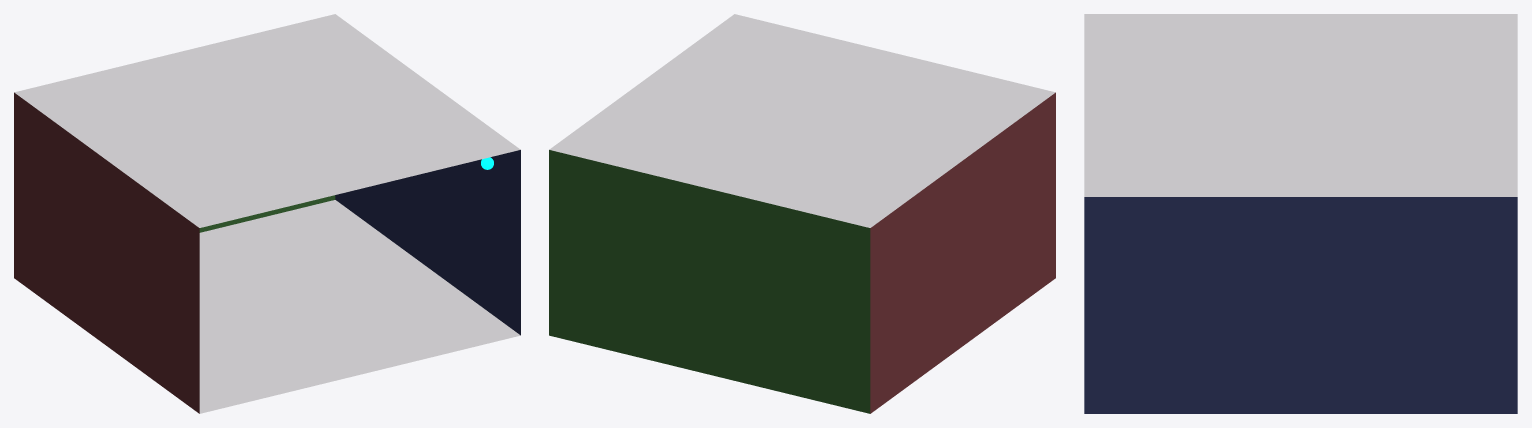
The picture shows the model from 3 angles, left to right: view 1: azimuth 30°, elevation 25°; view 2: azimuth 150°, elevation 25°; view 3: azimuth 270°, elevation 25°; orthographic projection. The views are drawn at different scales.
Visible parts, largest first — view 1: Plane; view 2: Plane; view 3: Plane.
Part boxes in pixels (bbox=[...]): Plane: bbox=[14, 14, 520, 413]; Plane: bbox=[549, 14, 1055, 413]; Plane: bbox=[1084, 14, 1517, 413].
Bounding box in the file's own units: 205 × 113 × 205.
